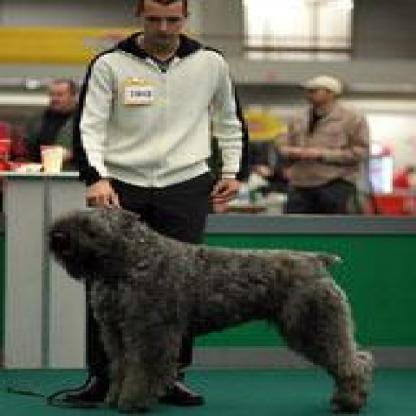Bouvier_des_Flandres: (34, 199, 372, 412)
